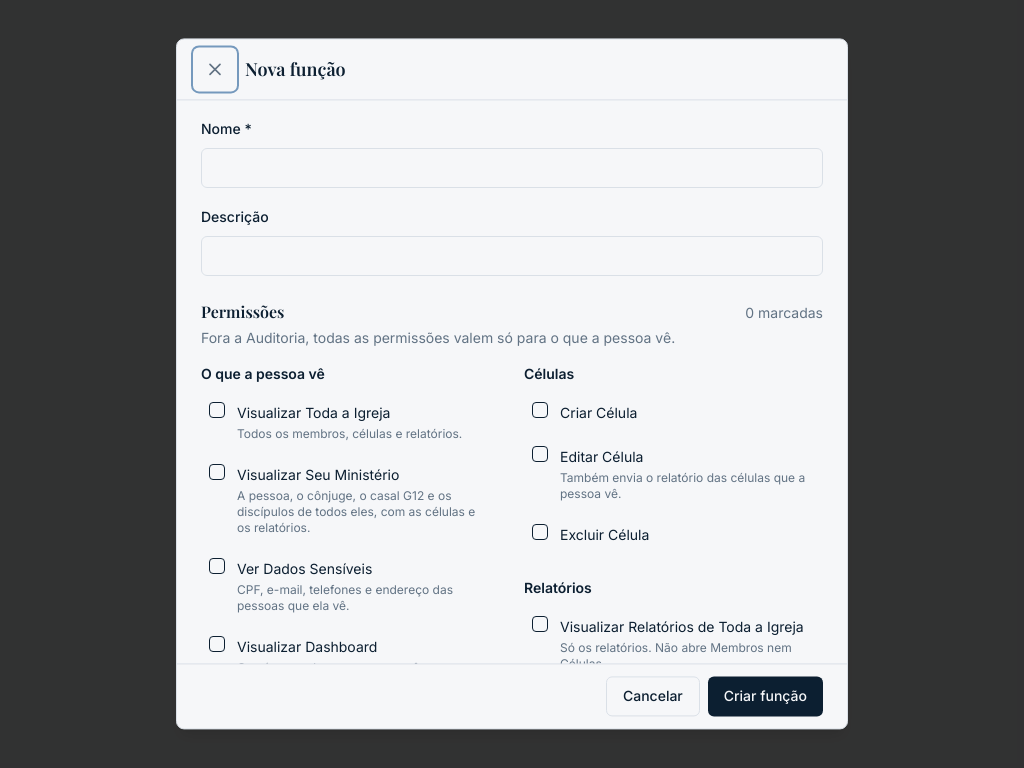
Scenario: RoleForm (T3) › sem nome, mostra o erro embaixo do campo, com o foco nele, e não chama o servidor
Step 1. Click the button "Criar função" → (765, 697), box [708, 677, 823, 717]
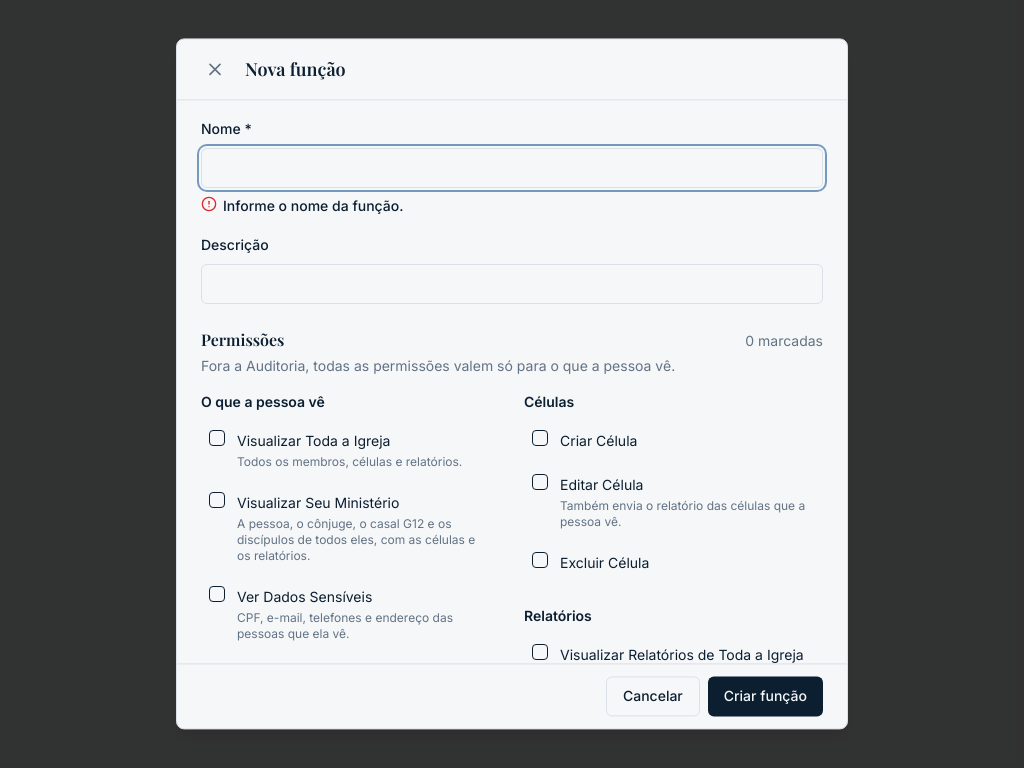
Now the text "Informe o nome da função." is shown, box [201, 196, 403, 214]
